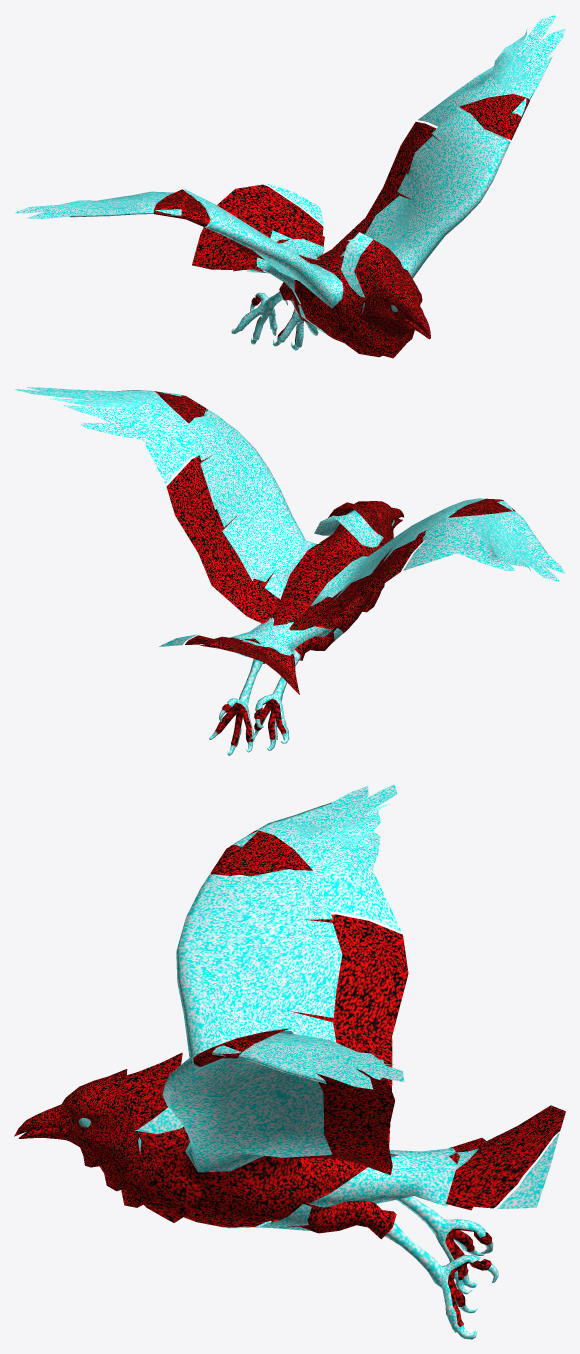
File: SM_VAT_Crow_01_GDH.fbx
The picture shows the model from 3 angles, top to bottom: view 1: azimuth 30°, elevation 25°; view 2: azimuth 150°, elevation 25°; view 3: azimuth 270°, elevation 25°; orthographic projection. The views are drawn at different scales.
Parts seen in each view (by area): view 1: SM_VAT_Crow_01_GDH; view 2: SM_VAT_Crow_01_GDH; view 3: SM_VAT_Crow_01_GDH.
Boxes of the visible parts, x1=… form: SM_VAT_Crow_01_GDH: x1=15, y1=14, x2=565, y2=358; SM_VAT_Crow_01_GDH: x1=14, y1=387, x2=565, y2=755; SM_VAT_Crow_01_GDH: x1=14, y1=784, x2=565, y2=1339.
Bounding box in the file's own units: 109 × 55.93 × 65.27.
